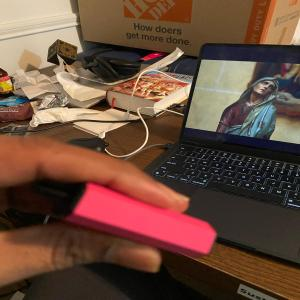Blume-E-Ciggirate: (30, 174, 218, 260)
